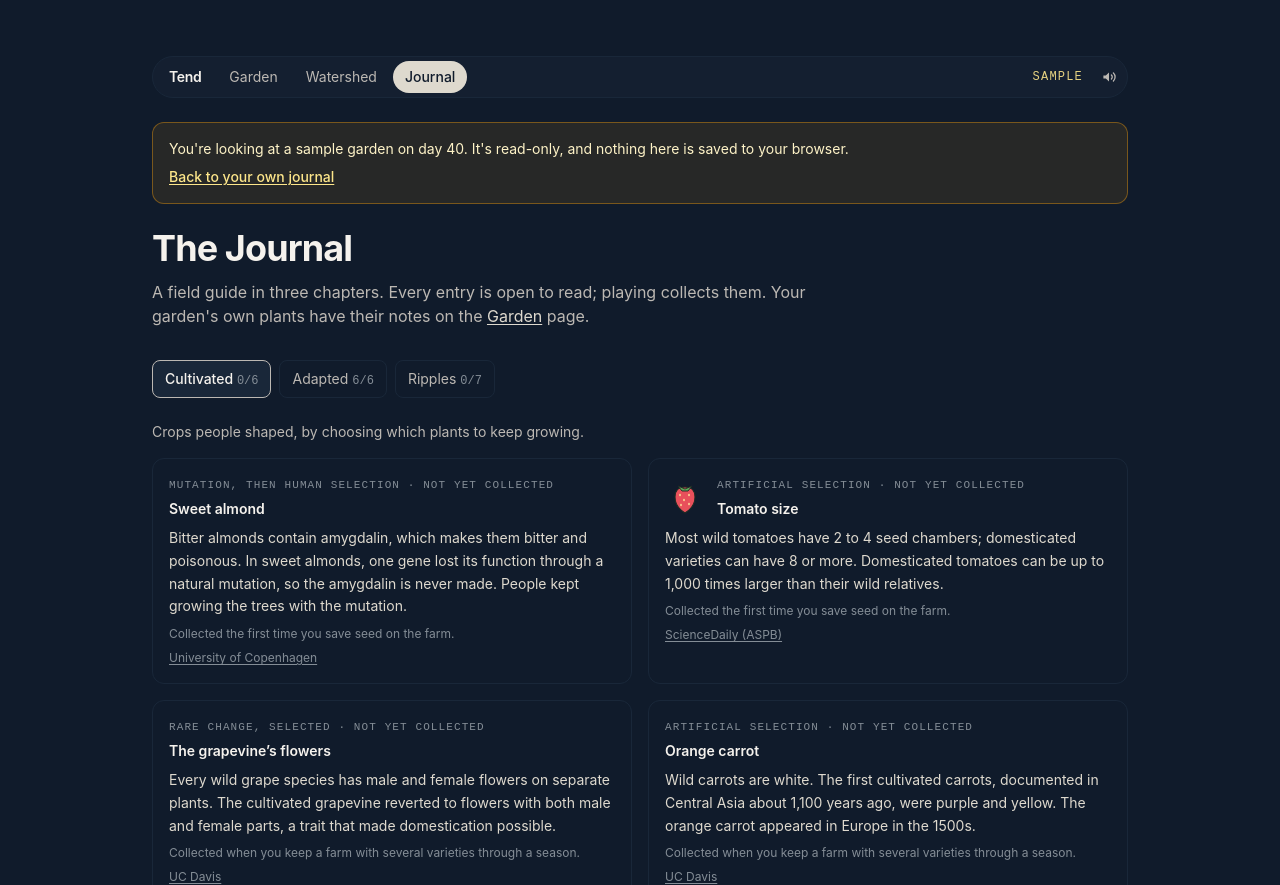
it: the Journal › opens every chapter for a visitor, marking what the sample has collected
This screenshot has width=1280, height=885.
Check: the heading "Sweet almond" is shown, box left=169, top=500, right=265, bottom=517
Click the tab "Adapted 6/6". click: (333, 379)
box: left=280, top=360, right=387, bottom=398
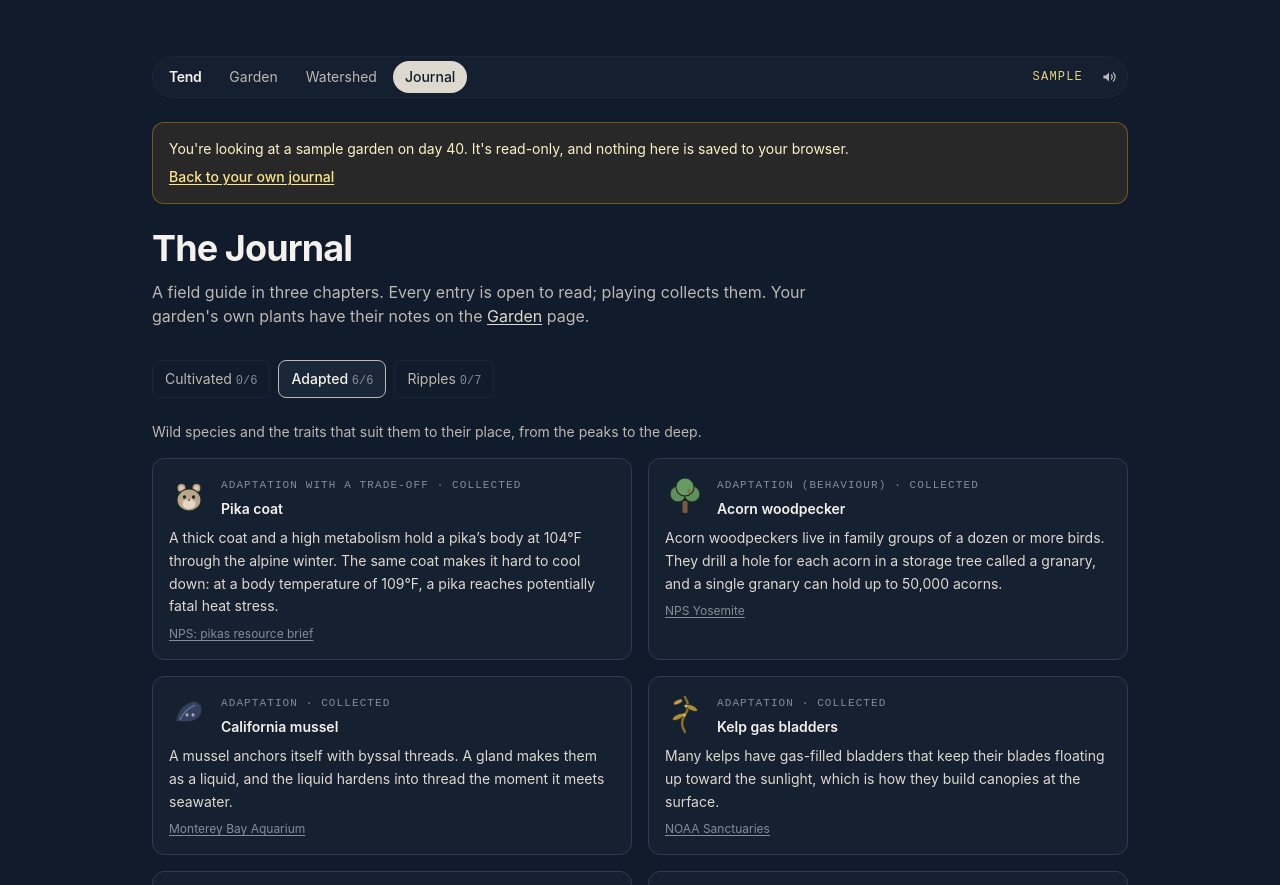
Check: the text "Adaptation with a trade-off · Collected" is shown, box left=221, top=475, right=521, bottom=495
Click the tab "Ripples 0/7". click: (444, 379)
box: left=394, top=360, right=494, bottom=398
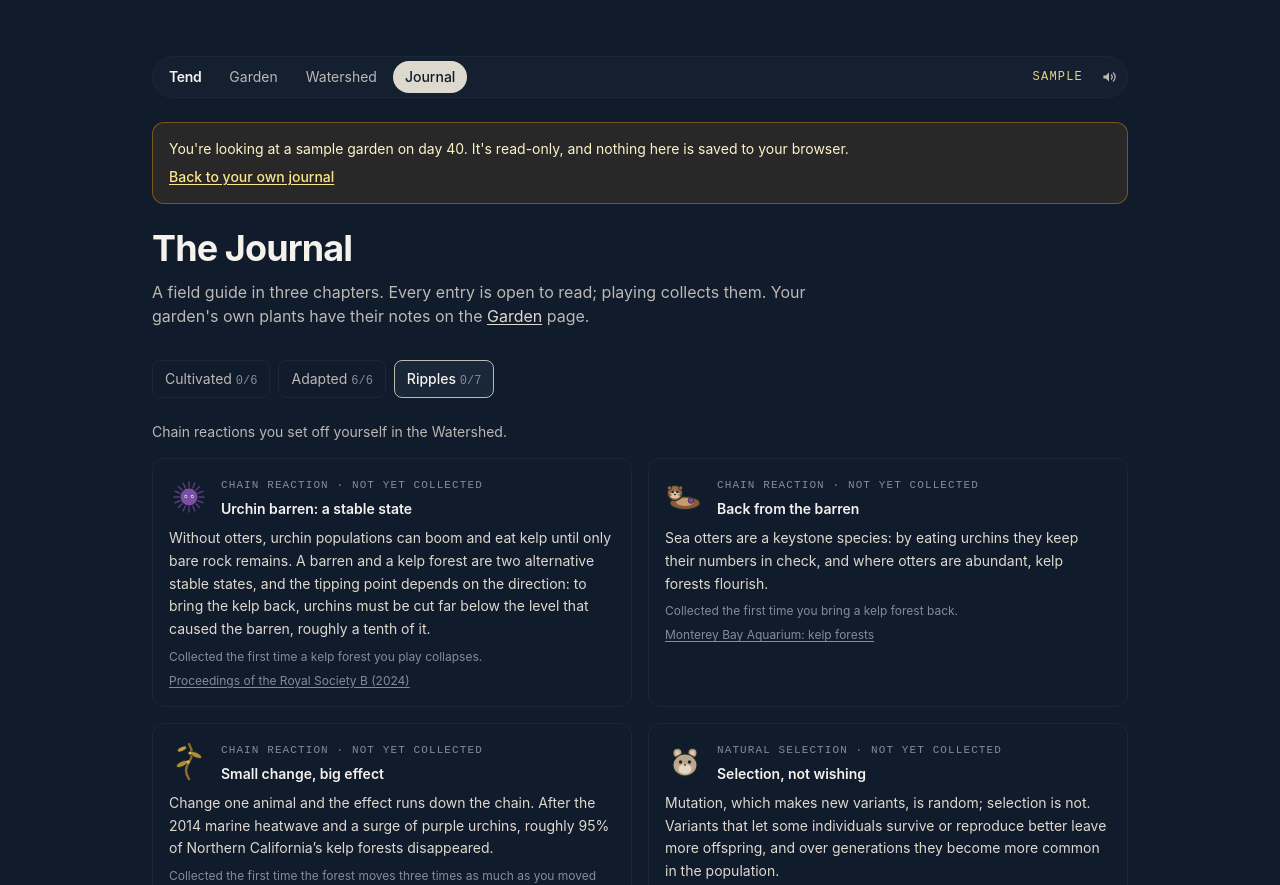
Check: the heading "Urchin barren: a stable state" is shown, box left=221, top=500, right=412, bottom=517
